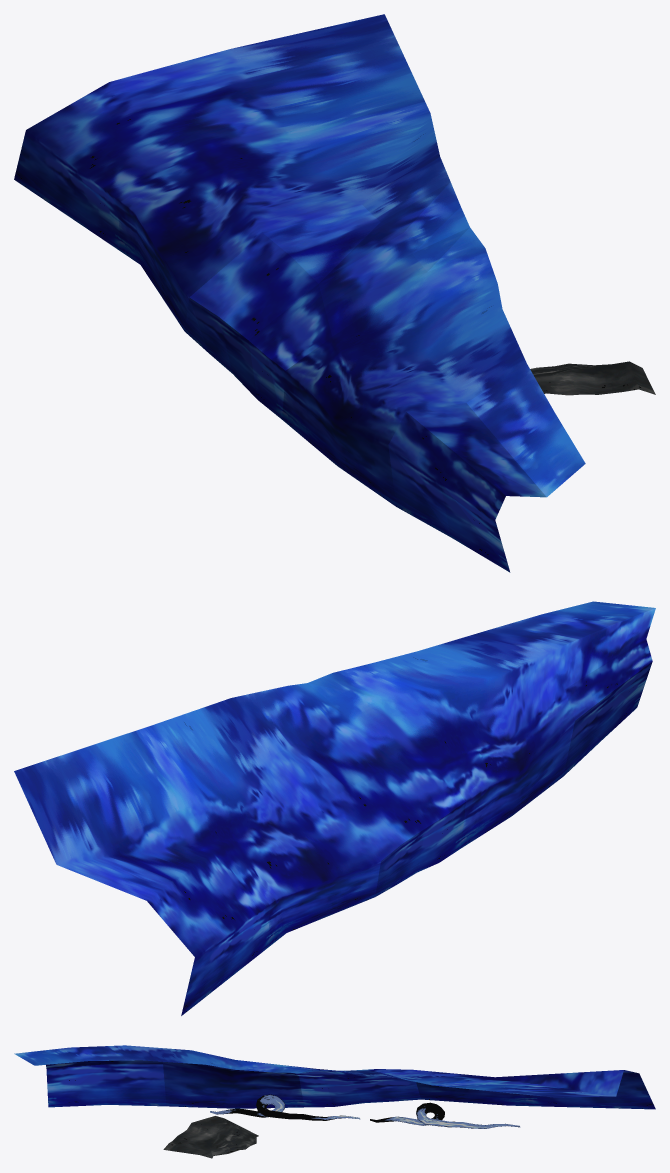
Rendered from menu_billboard_sky.fbx.
The picture shows the model from 3 angles, top to bottom: view 1: azimuth 30°, elevation 25°; view 2: azimuth 150°, elevation 25°; view 3: azimuth 270°, elevation 25°; orthographic projection. The views are drawn at different scales.
Parts seen in each view (by area): view 1: menu_billboard_sky-0; view 2: menu_billboard_sky-0; view 3: menu_billboard_sky-0.
Part boxes in pixels (left/top/right/bottom): menu_billboard_sky-0: left=14, top=14, right=655, bottom=572; menu_billboard_sky-0: left=14, top=601, right=655, bottom=1015; menu_billboard_sky-0: left=14, top=1045, right=655, bottom=1158.
Bounding box in the file's own units: 14.6 × 7.36 × 41.84.
